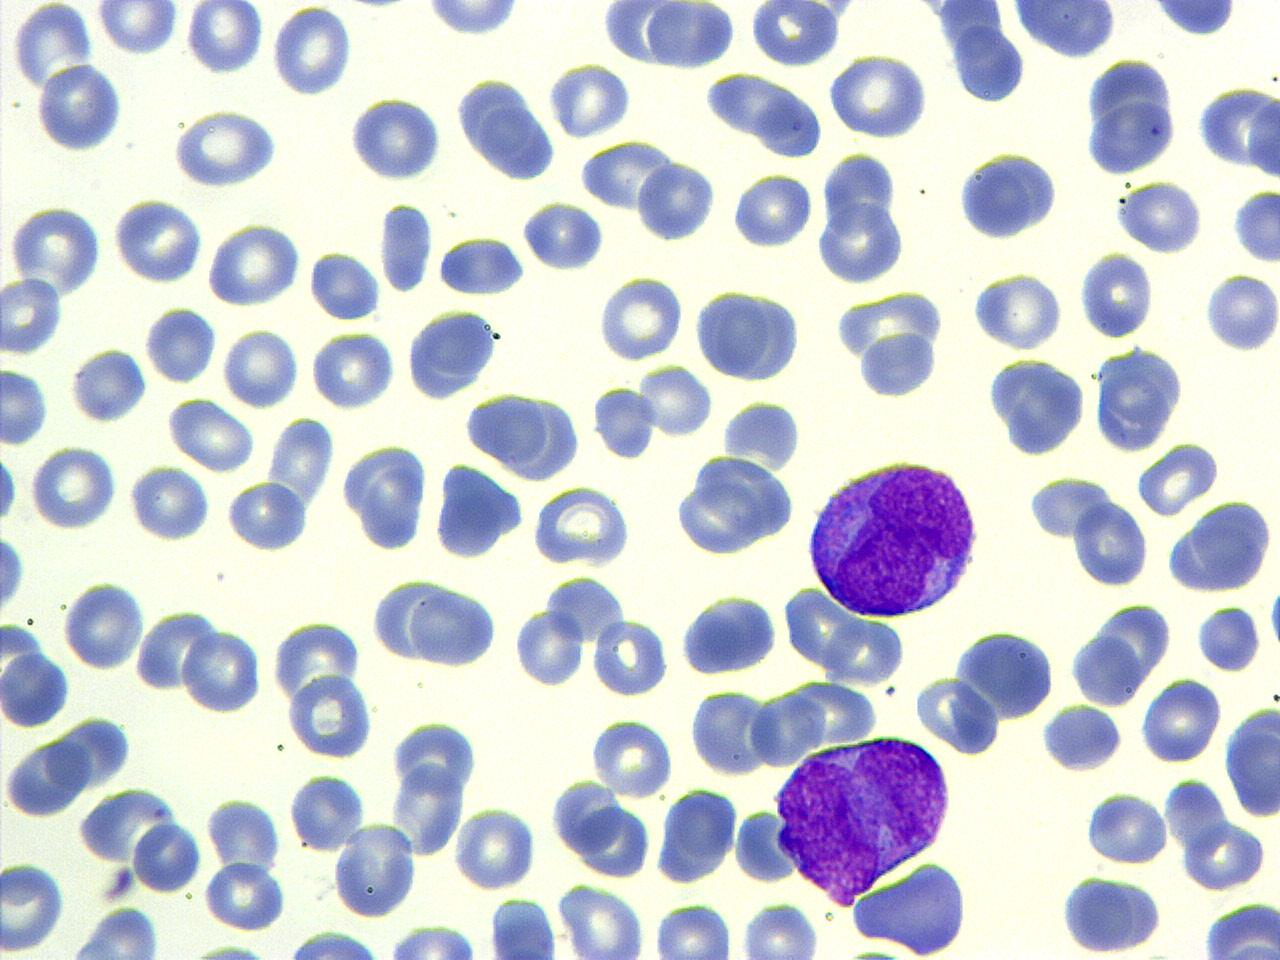Platelets: (1134, 438, 1224, 515), (1201, 271, 1277, 354), (69, 904, 163, 959), (1230, 185, 1280, 265), (0, 529, 27, 618), (191, 940, 265, 960), (0, 455, 19, 524), (104, 864, 137, 902), (1267, 586, 1280, 650)
RBC: (340, 442, 431, 553), (5, 202, 106, 297), (826, 51, 930, 142), (170, 105, 281, 190), (282, 667, 376, 762), (814, 191, 907, 286), (528, 483, 634, 567), (346, 94, 446, 182), (652, 786, 738, 888), (113, 194, 206, 286), (206, 220, 304, 307), (330, 822, 418, 918), (597, 271, 686, 364), (970, 267, 1065, 354), (686, 686, 774, 778), (690, 287, 776, 382), (28, 443, 119, 530), (61, 577, 146, 671), (270, 3, 352, 99), (408, 585, 500, 670), (1139, 674, 1223, 766), (309, 326, 398, 412), (390, 760, 467, 860), (634, 157, 720, 244), (453, 804, 536, 892), (136, 606, 218, 696), (180, 626, 262, 716), (730, 168, 816, 252), (744, 1, 854, 67), (1072, 497, 1150, 590), (1115, 176, 1205, 255), (589, 716, 675, 798), (222, 476, 312, 554), (1200, 270, 1280, 358), (1222, 702, 1280, 820), (1078, 249, 1154, 340), (127, 461, 212, 542), (591, 613, 670, 699), (1084, 788, 1170, 866), (166, 396, 255, 472), (548, 61, 632, 140), (222, 326, 301, 409), (748, 686, 826, 770), (1179, 819, 1269, 892), (1, 857, 68, 955), (562, 882, 646, 960), (519, 198, 606, 272), (1135, 442, 1219, 518), (204, 795, 282, 875), (288, 770, 366, 852), (68, 346, 148, 424), (512, 604, 586, 689), (821, 613, 905, 687), (1, 642, 73, 728), (144, 303, 217, 384), (183, 1, 265, 74), (436, 234, 529, 297), (205, 860, 286, 932), (639, 361, 714, 438), (732, 802, 802, 882), (578, 801, 651, 877), (376, 199, 435, 293), (307, 249, 381, 322), (132, 820, 203, 894), (590, 382, 656, 460), (0, 276, 63, 355), (1194, 601, 1264, 673), (95, 0, 180, 57), (738, 899, 821, 958), (487, 894, 560, 959), (652, 901, 732, 959), (0, 363, 51, 447), (419, 0, 527, 39), (383, 924, 483, 960), (1246, 85, 1280, 185), (0, 526, 27, 622)
WBC: (768, 729, 954, 906), (802, 452, 984, 620), (917, 0, 1112, 112), (226, 412, 342, 557), (936, 622, 1059, 750), (456, 383, 589, 491), (830, 284, 950, 403), (670, 452, 802, 558), (812, 147, 912, 286), (851, 854, 973, 960), (454, 71, 559, 186), (1083, 54, 1181, 178), (984, 353, 1090, 459), (1165, 497, 1277, 597), (276, 653, 376, 764), (1089, 342, 1187, 454), (340, 439, 430, 554), (956, 148, 1063, 245), (430, 459, 526, 562), (1056, 871, 1168, 958), (404, 305, 502, 403), (27, 58, 128, 154), (676, 588, 782, 678), (346, 95, 449, 182), (654, 786, 738, 888), (2, 730, 96, 820), (205, 223, 303, 308), (411, 579, 499, 669), (114, 813, 208, 894), (223, 477, 318, 556), (693, 287, 771, 382), (635, 2, 742, 71), (636, 157, 718, 245), (1005, 1, 1123, 62), (1223, 699, 1280, 821), (69, 342, 148, 426), (0, 642, 74, 731), (720, 395, 802, 474), (520, 199, 607, 272), (1039, 702, 1123, 776), (1070, 624, 1144, 709), (143, 303, 218, 385), (434, 232, 528, 297), (1024, 473, 1112, 543), (376, 198, 436, 294), (63, 903, 163, 959), (733, 806, 802, 885), (591, 384, 657, 464), (1198, 897, 1280, 960), (1196, 600, 1262, 675), (1230, 185, 1280, 268), (1140, 0, 1252, 37), (273, 925, 394, 958), (381, 922, 483, 958)
